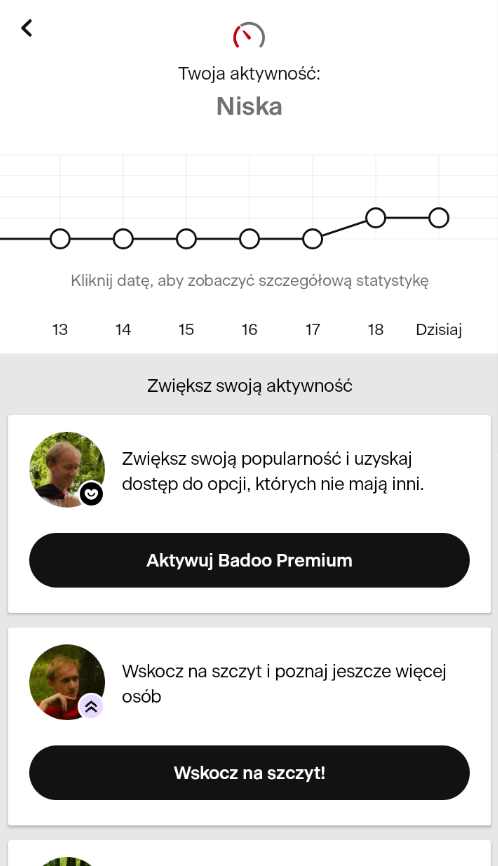kupno_button: (30, 529, 471, 590), (28, 741, 472, 801)
